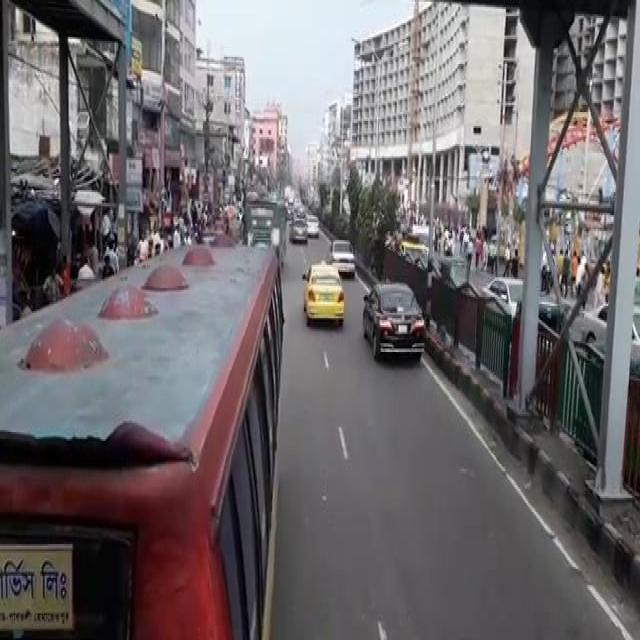Ad-signs: (0, 541, 74, 631)
Bus: (0, 235, 285, 638)
Car: (361, 279, 426, 363), (301, 258, 345, 327)
